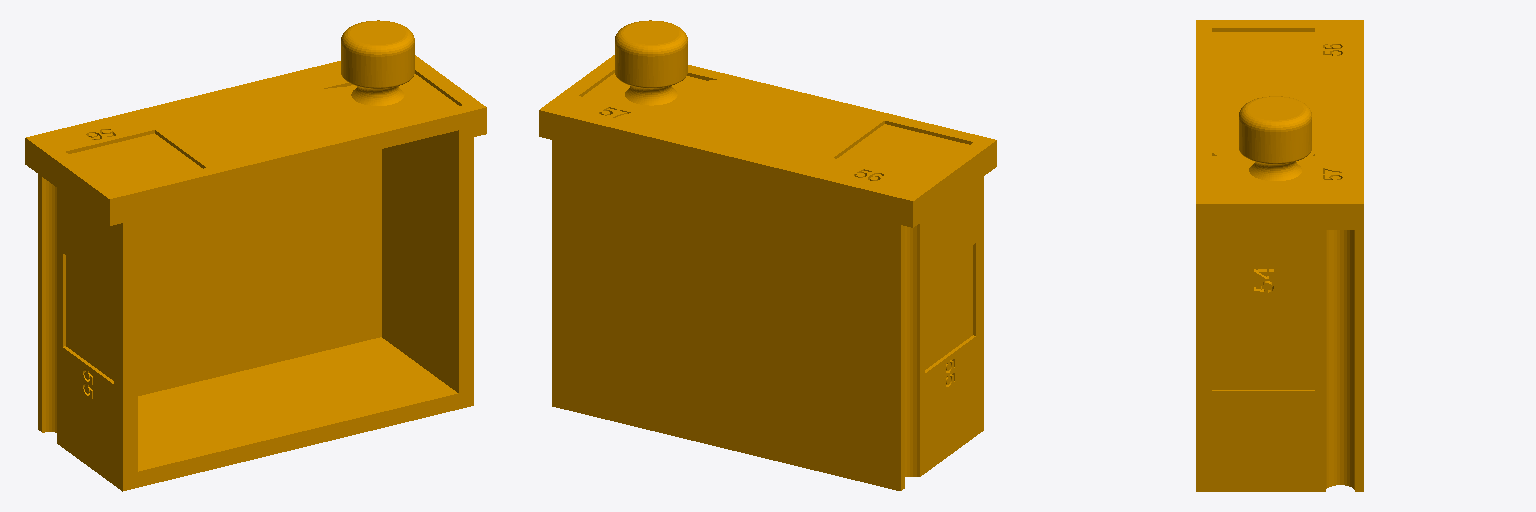
robot.urdf — drawer_DrawerHandle_GX0035_top:
<?xml version="1.0"?>
<robot name="drawer_DrawerHandle_GX0035_top">
    <link name="drawer_DrawerHandle_GX0035_top">
        <visual>
            <geometry>
                <mesh filename="../../mesh/drawer/drawer_DrawerHandle_GX0035/drawer_container_top.obj" scale="1 1 1"/>
            </geometry>
        </visual>
        <collision>
            <geometry>
                <mesh filename="../../mesh/drawer/drawer_DrawerHandle_GX0035/drawer_container_top.obj" scale="1 1 1"/>
            </geometry>
            <sdf resolution="512"/>
        </collision>
    </link>
</robot>

--- Render facts (derived) ---
3 views of the same robot in one strip: view 1: azimuth 30°, elevation 25°; view 2: azimuth 150°, elevation 25°; view 3: azimuth 270°, elevation 25° (orthographic).
Robot: drawer_DrawerHandle_GX0035_top — 1 links, 0 joints (none); root link drawer_DrawerHandle_GX0035_top; default pose: all joints at 0.
Links seen in each view (by area): view 1: drawer_DrawerHandle_GX0035_top; view 2: drawer_DrawerHandle_GX0035_top; view 3: drawer_DrawerHandle_GX0035_top.
Link boxes in pixels (box(x1,y1,x2,y2)): drawer_DrawerHandle_GX0035_top: box(25, 20, 486, 491); drawer_DrawerHandle_GX0035_top: box(539, 20, 996, 490); drawer_DrawerHandle_GX0035_top: box(1196, 20, 1363, 491).
Size in the robot's own frame: 0.1103 by 0.0428 by 0.0997 metres.
1 mesh visuals loaded from 1 distinct referenced files (1 OBJ).